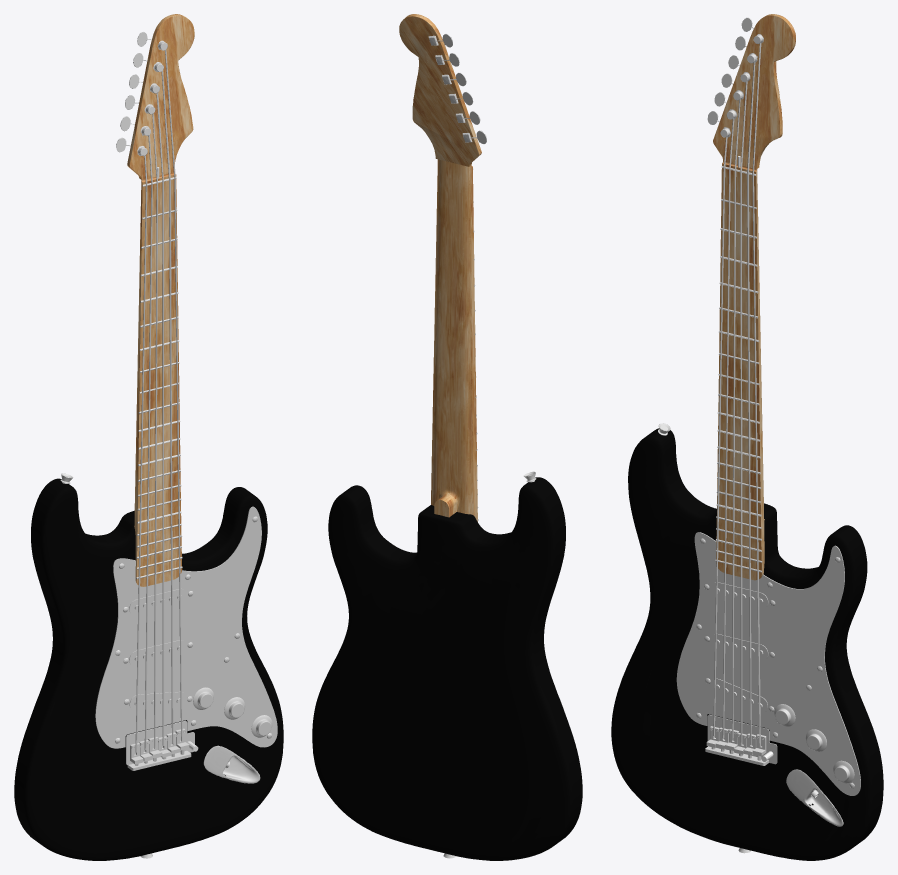
Rendered from fender_min.glb.
3 renders of one model, left to right at view 1: azimuth 30°, elevation 25°; view 2: azimuth 150°, elevation 25°; view 3: azimuth 330°, elevation 25°, orthographic.
Parts seen in each view (by area): view 1: Guitarra; view 2: Guitarra; view 3: Guitarra.
Part boxes in pixels (x1=…): Guitarra: x1=14, y1=14, x2=283, y2=860; Guitarra: x1=312, y1=14, x2=582, y2=860; Guitarra: x1=611, y1=14, x2=883, y2=860.
Bounding box in the file's own units: 3.18 × 9.78 × 0.4976.
6 materials, 1 textured.
